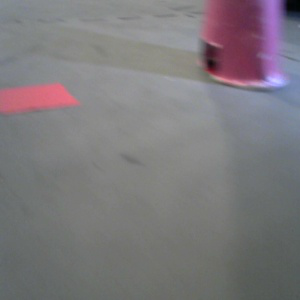right: (201, 1, 291, 86), (201, 1, 288, 86)
